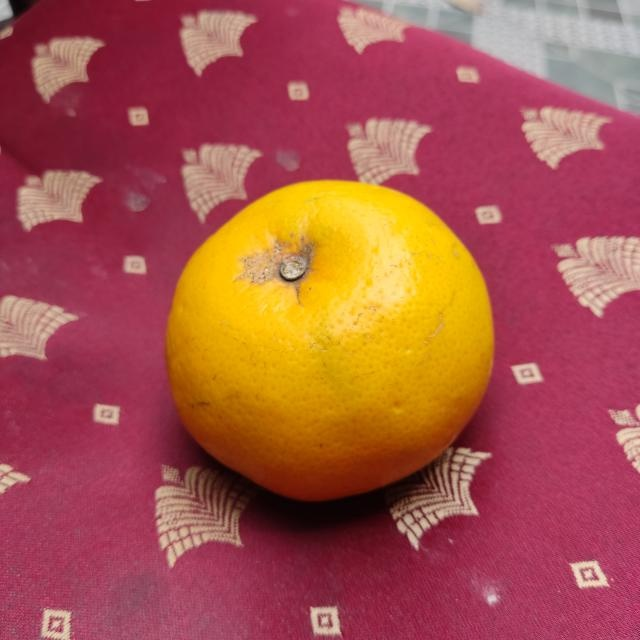agrume: (158, 179, 498, 505)
